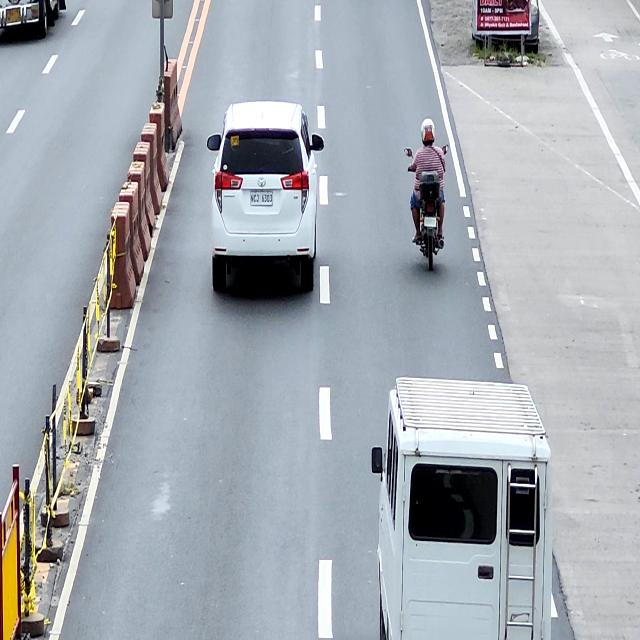Car: (372, 374, 552, 640), (208, 102, 324, 293)
License-Plate: (249, 192, 273, 206), (424, 217, 437, 227)
Motorcycle: (404, 147, 448, 272)
